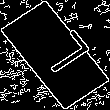L_SW: (22, 27, 88, 83)
